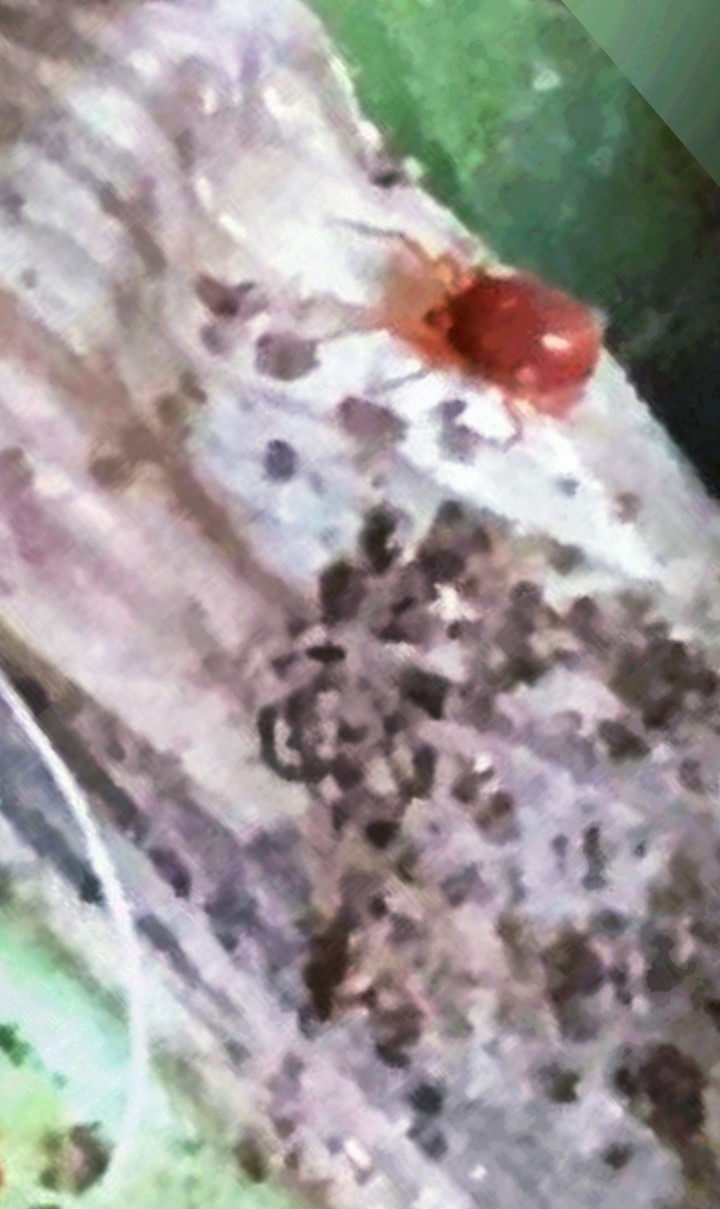Wheat Red Spider: (316, 213, 651, 427)
